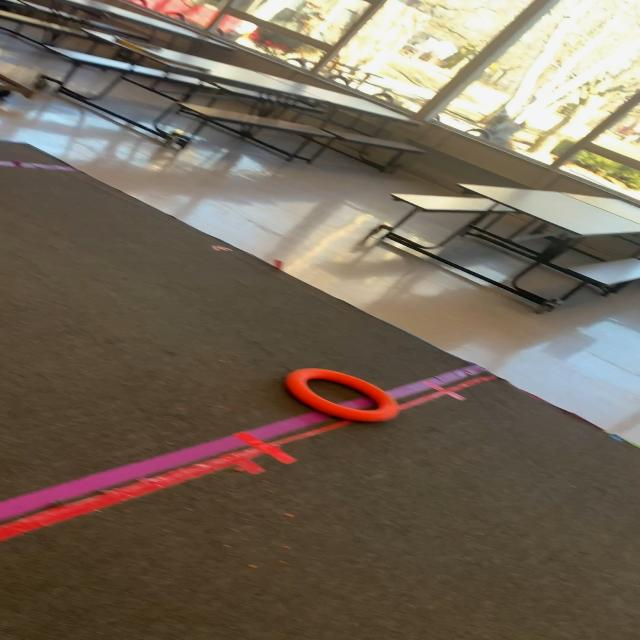notes: (286, 367, 397, 423)
